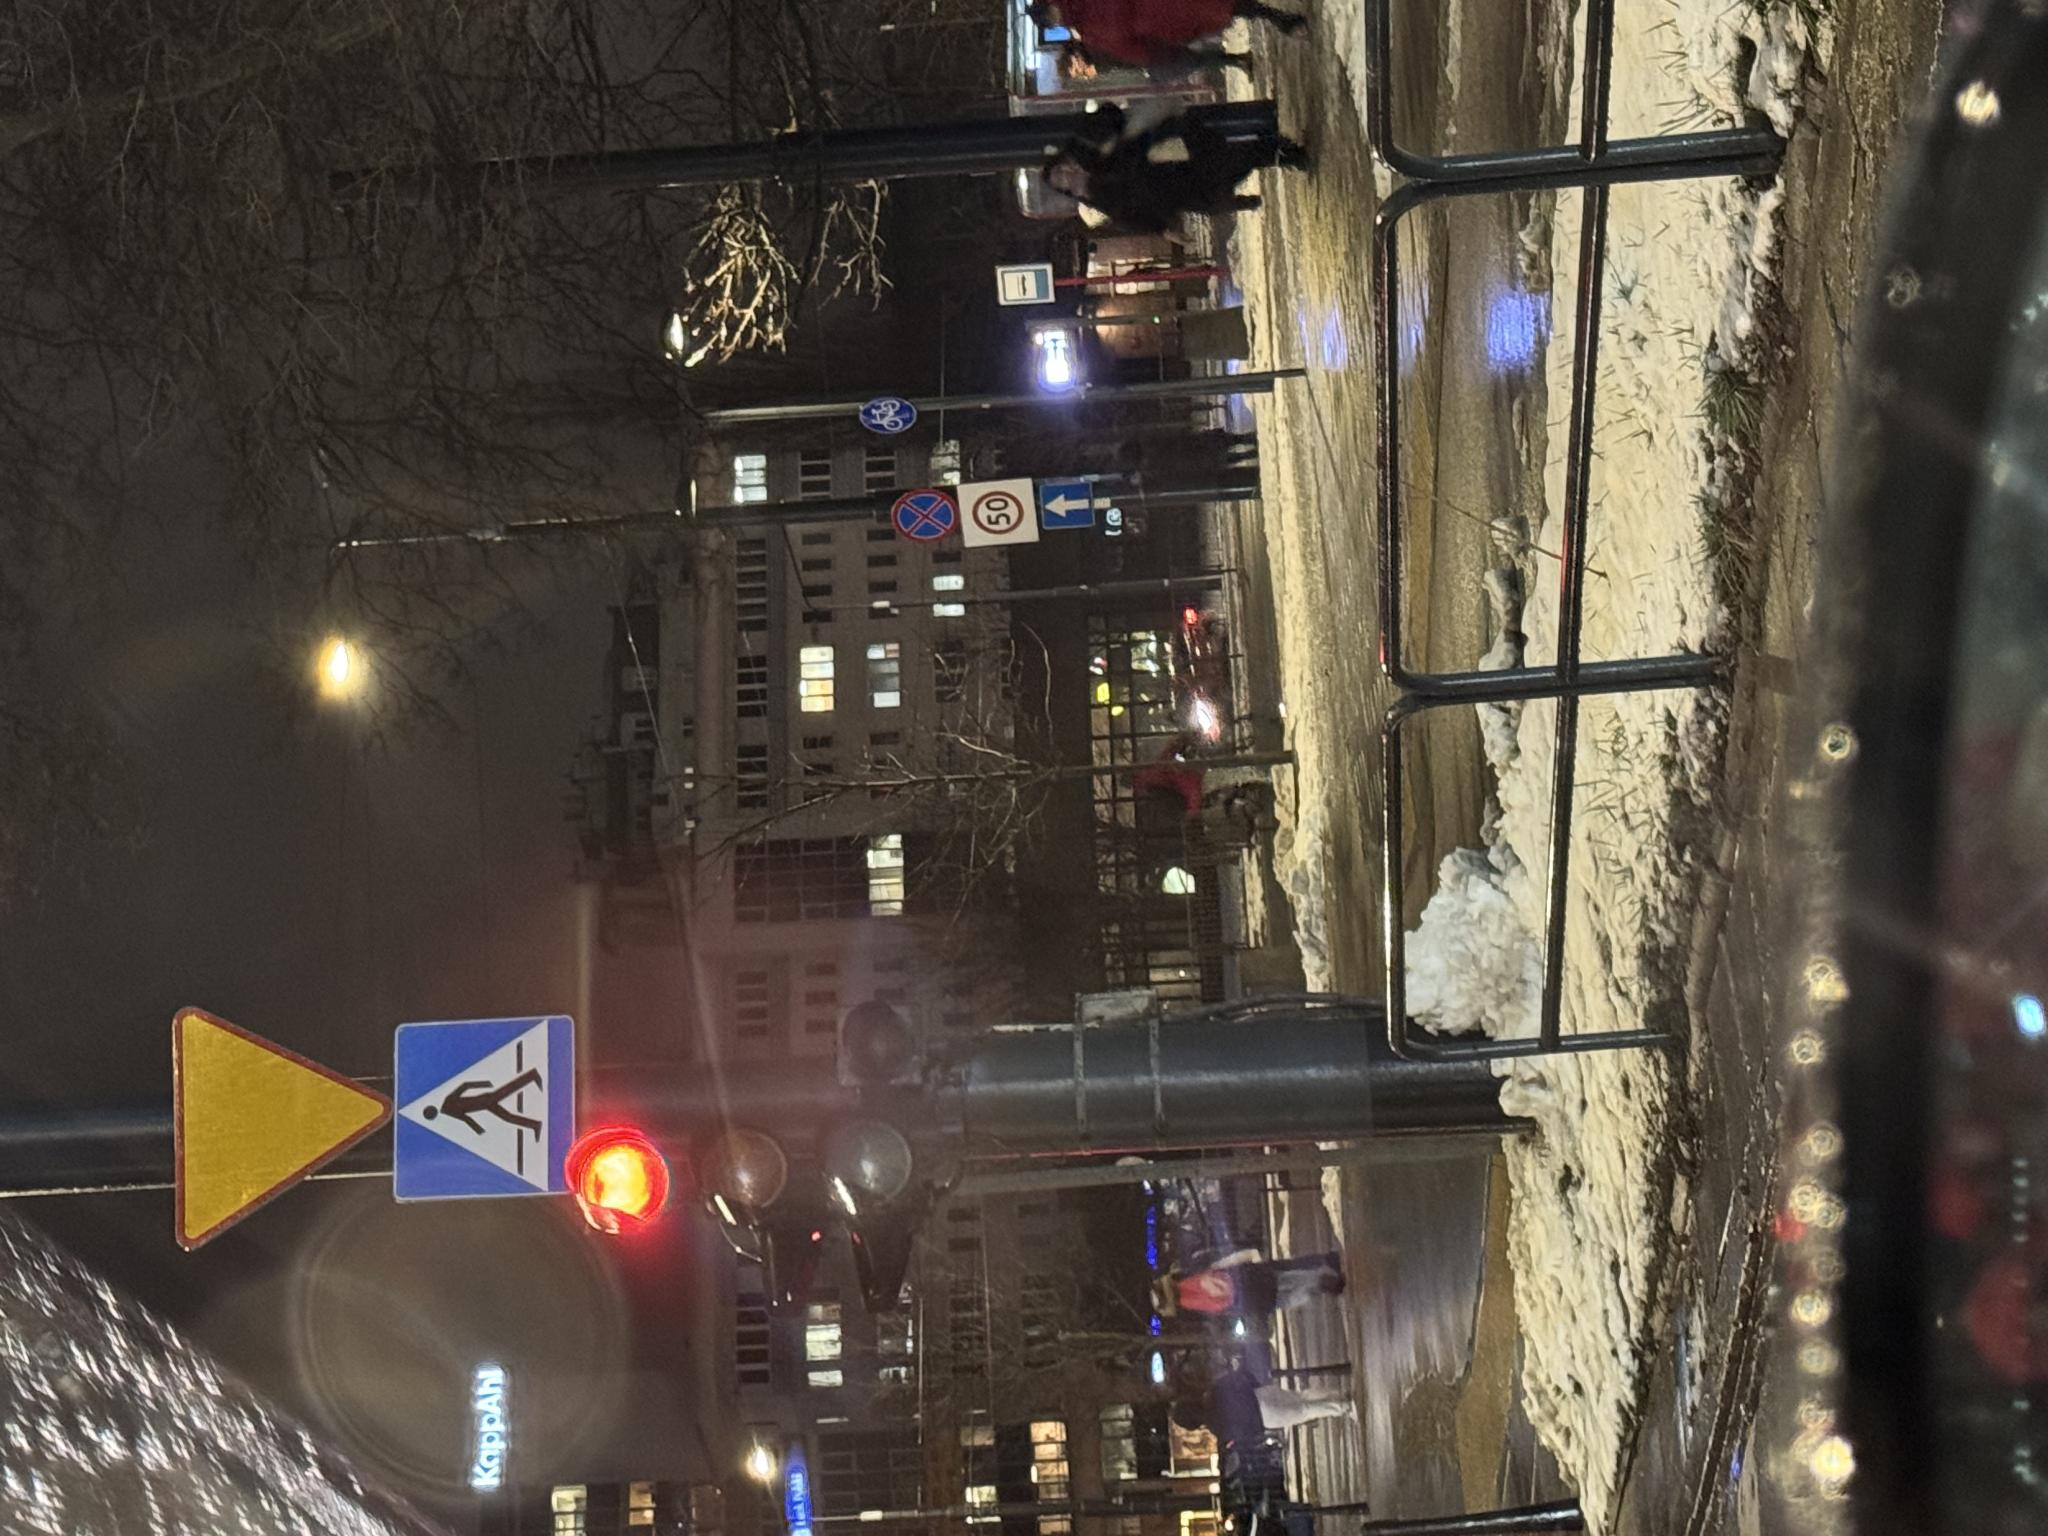information: (332, 387, 524, 576), (1006, 1039, 1058, 1092), (1235, 1000, 1268, 1049)
mandatory: (1101, 860, 1140, 918)
prohibitory: (993, 891, 1050, 962), (1000, 971, 1048, 1026)
warning: (282, 171, 532, 395)
